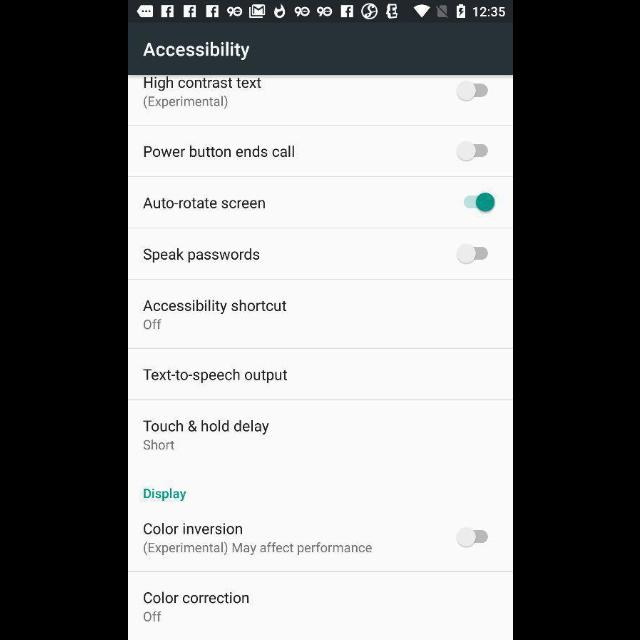switch: (454, 526, 488, 548), (454, 80, 488, 102), (456, 243, 488, 265), (456, 141, 488, 163), (463, 192, 495, 212)
text: (142, 542, 372, 556), (142, 368, 288, 384), (142, 41, 250, 61), (143, 420, 270, 436), (142, 300, 286, 314), (142, 76, 262, 92), (143, 146, 294, 158), (143, 248, 260, 262), (142, 198, 266, 210), (144, 522, 242, 536), (143, 592, 249, 604), (143, 96, 227, 110), (143, 488, 187, 502), (143, 439, 175, 451), (142, 610, 162, 622), (142, 318, 162, 330)
toolbar: (128, 23, 512, 75)
uppertaskbar: (128, 1, 512, 23)
